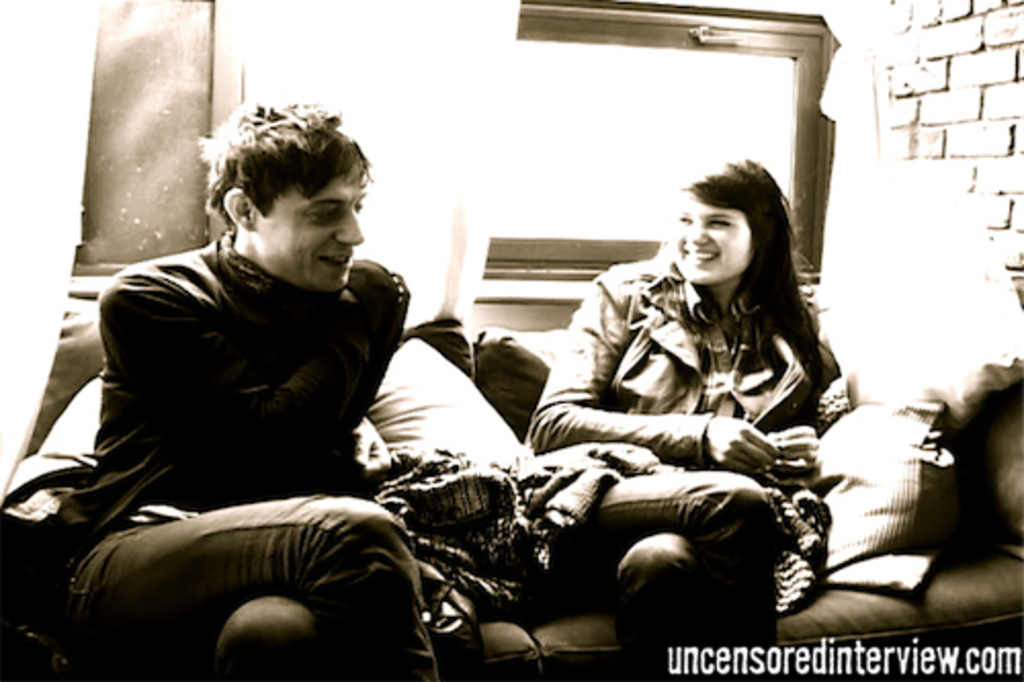Human_hand: (705, 416, 778, 477), (336, 414, 399, 477), (350, 262, 401, 324), (768, 426, 821, 473)
